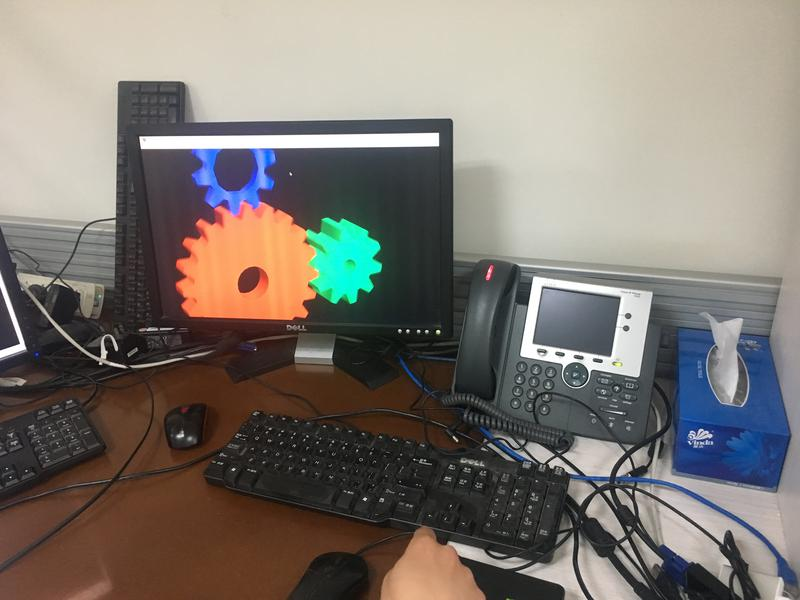glxgears_pass: (144, 134, 389, 322)
